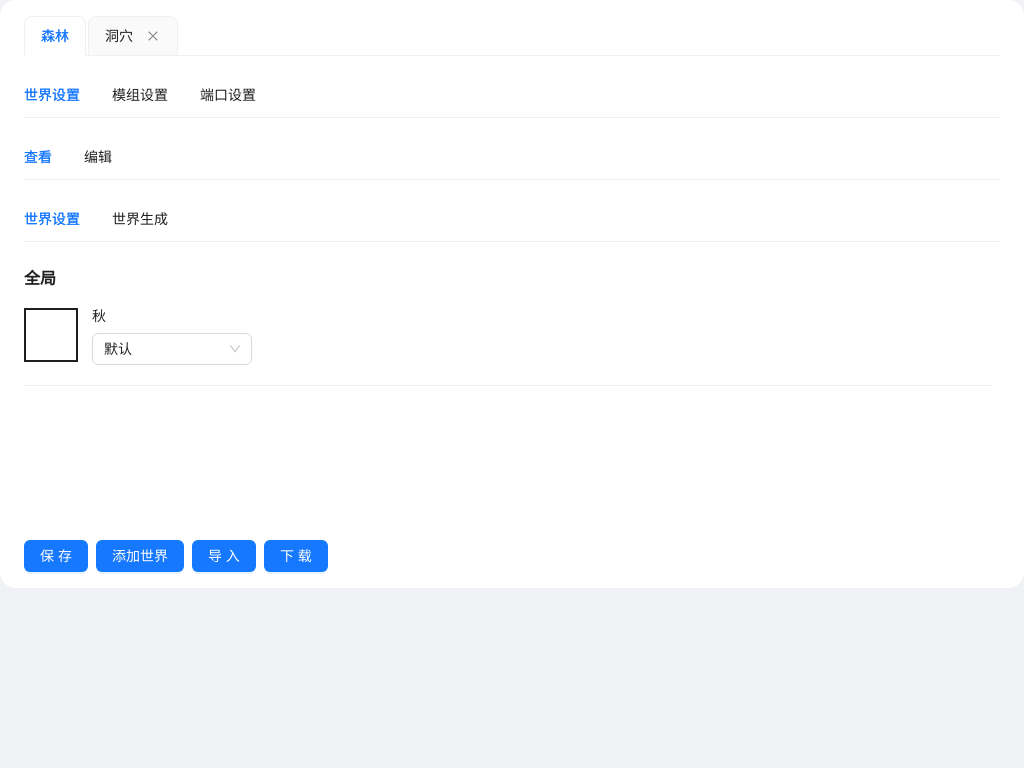
Test: world task pages › renders level tabs and world setting controls from backend data
This screenshot has width=1024, height=768.
Expected: the tab "森林" is shown, [41,25,69,47]
Expected: the tab "洞穴" is shown, [105,25,133,47]
Click the tab "世界生成" at (140, 219), box [112,208,168,230]
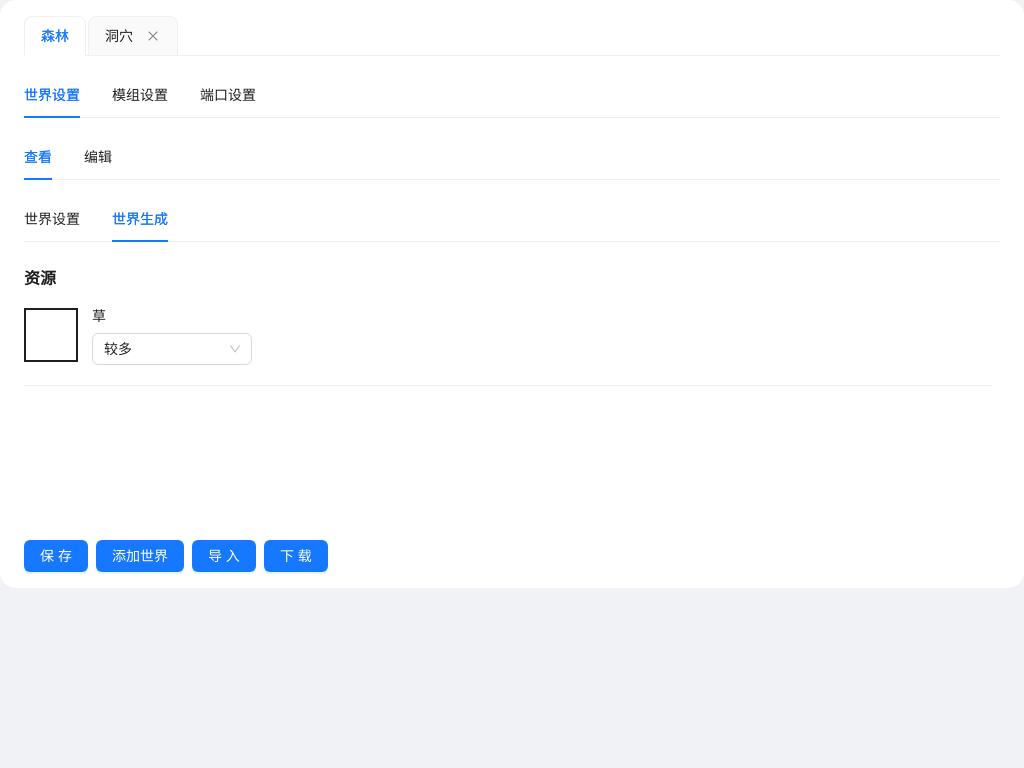
Expected: the button "保 存" is shown, [24,540,88,572]
Result: the text "草" is shown at [92,307,106,324]
